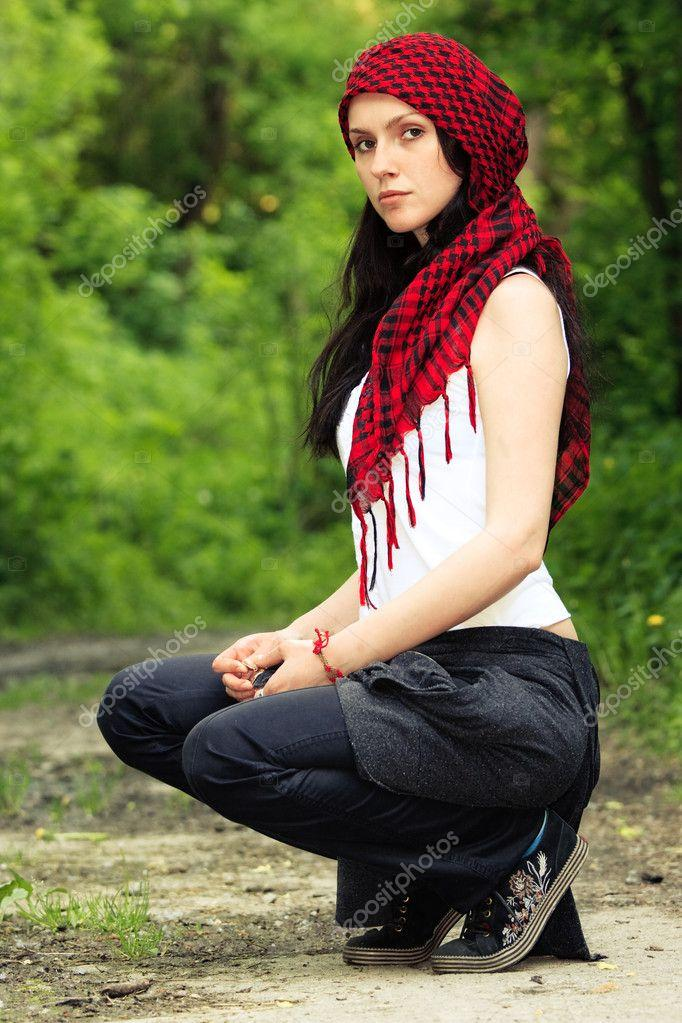scarf-kerchief: (293, 10, 582, 346)
